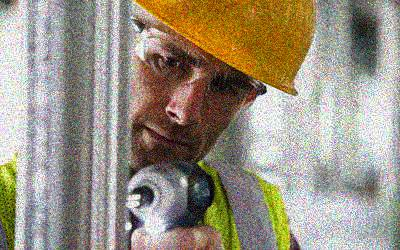helmet: (119, 1, 321, 174)
